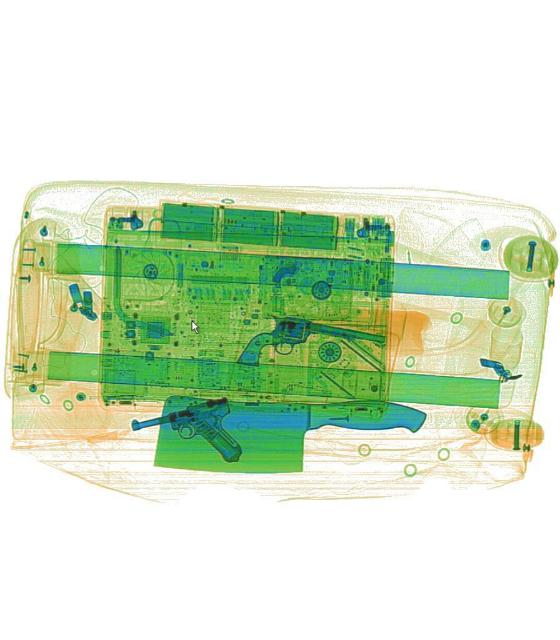Gun: (235, 308, 383, 390), (130, 392, 242, 483)
Knife: (153, 390, 426, 480)
